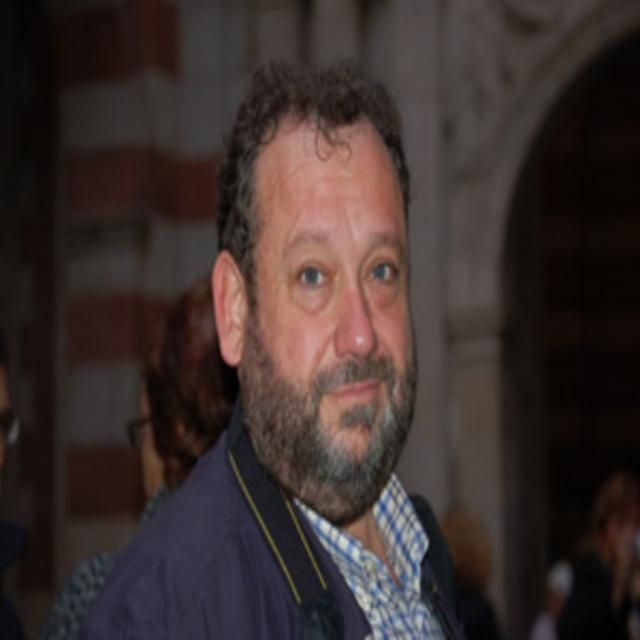closed-mouth: (322, 381, 381, 404)
